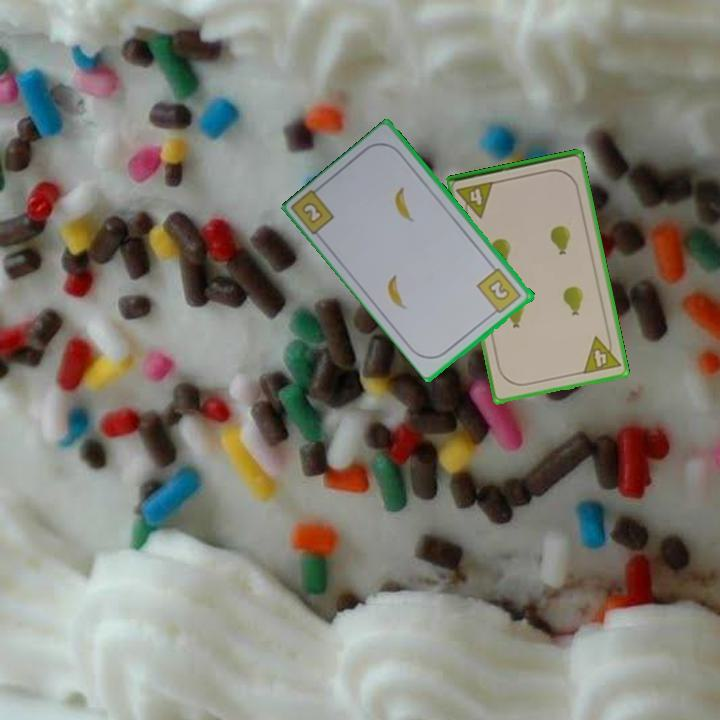2b: (474, 265, 525, 318), (300, 201, 324, 224)
4p: (579, 331, 623, 377), (453, 178, 497, 223)
